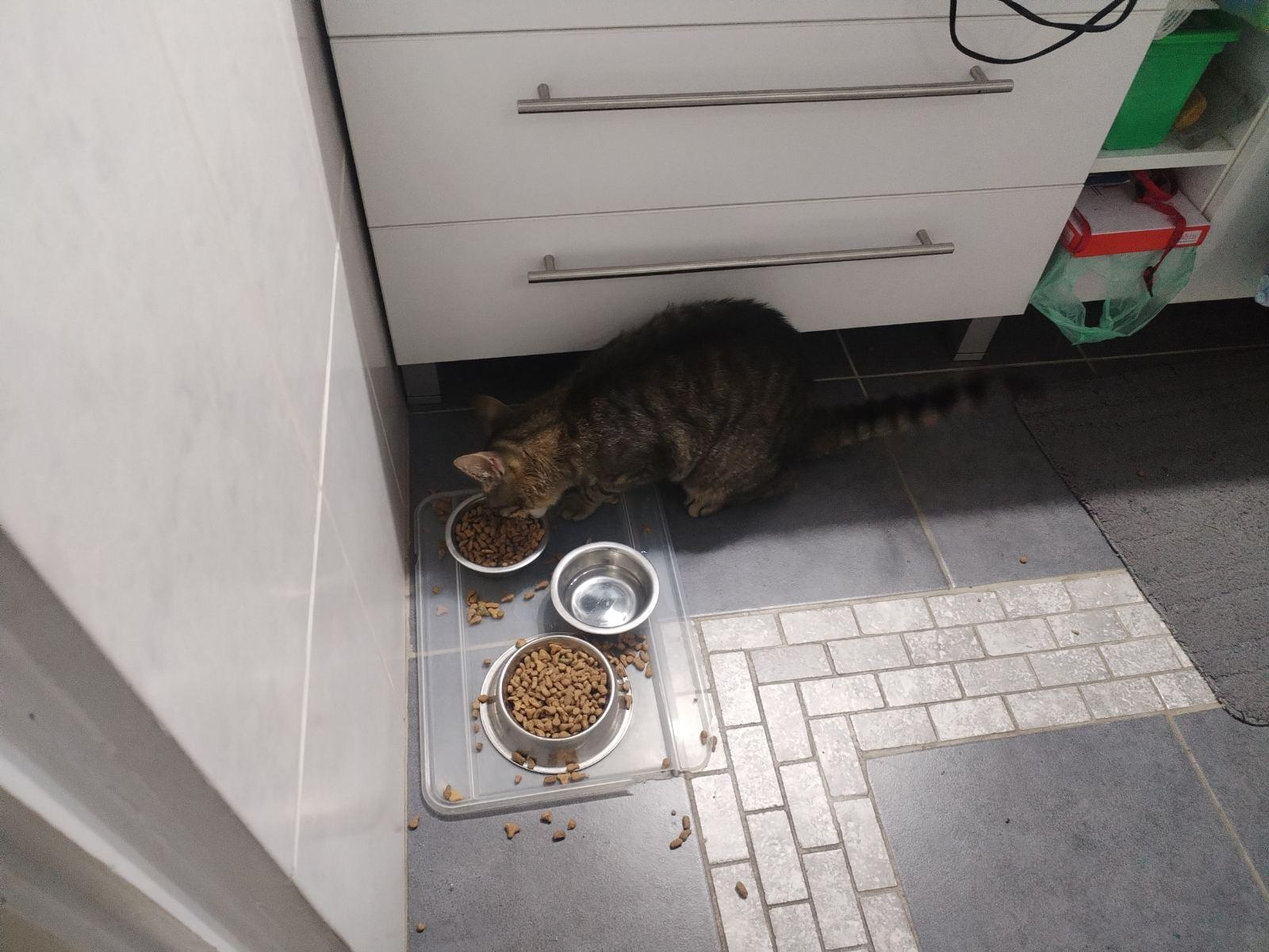macka: (451, 298, 1053, 520)
